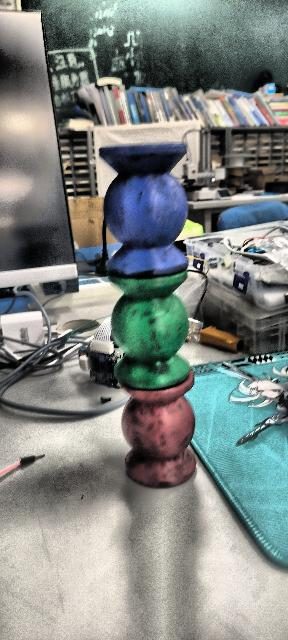blue: (99, 143, 193, 274)
green: (104, 274, 190, 394)
red: (116, 378, 197, 489)
